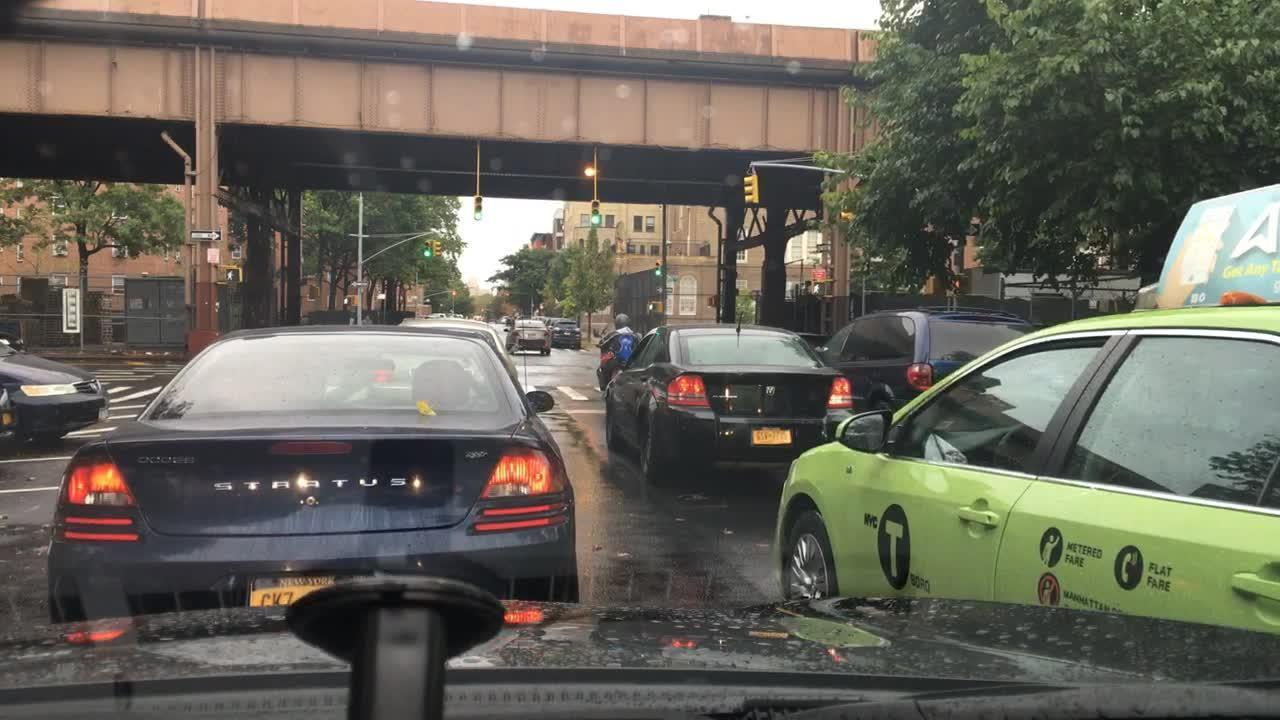ram: (761, 379, 781, 400)
